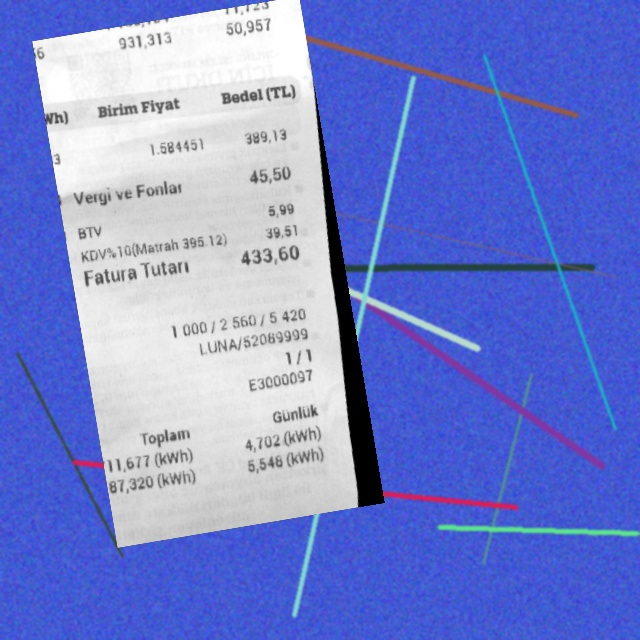electricity-bill: (32, 0, 384, 548)
